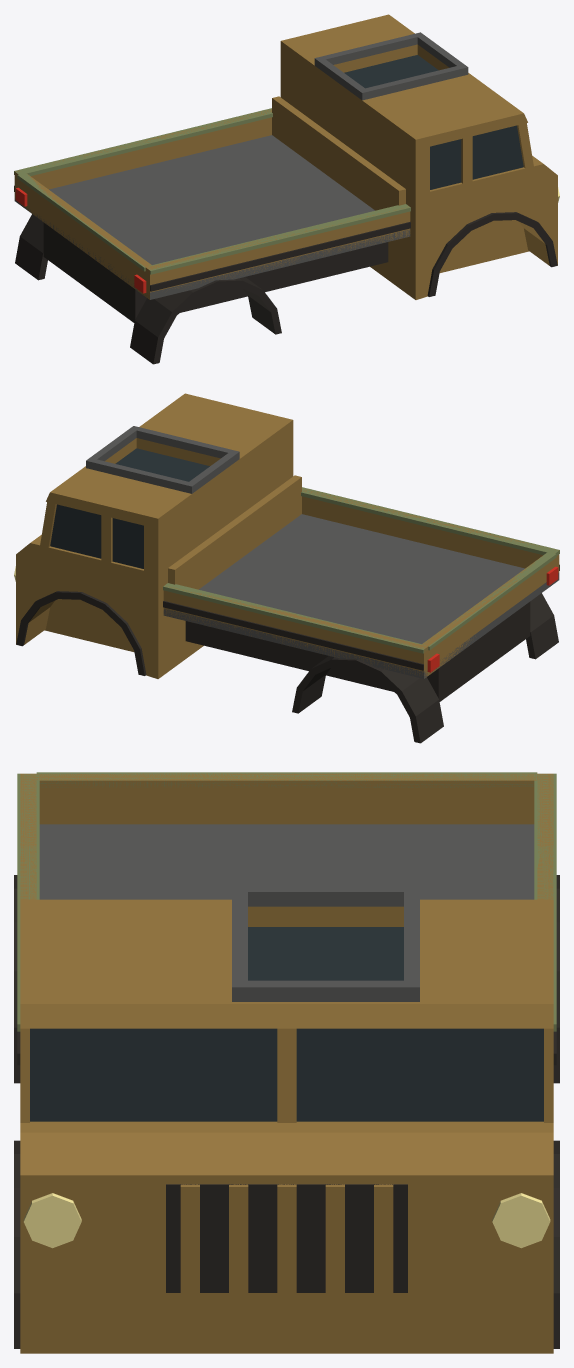
Rendered from base_hauler.glb.
The picture shows the model from 3 angles, top to bottom: view 1: azimuth 30°, elevation 25°; view 2: azimuth 150°, elevation 25°; view 3: azimuth 270°, elevation 25°; orthographic projection. The views are drawn at different scales.
Parts seen in each view (by area): view 1: base_hauler; view 2: base_hauler; view 3: base_hauler.
Part boxes in pixels (x1,y1,x2,y2): base_hauler: (14,14,559,364); base_hauler: (14,393,559,743); base_hauler: (14,772,559,1353).
Size of the model in its own units: 5.85 by 2.27 by 3.39.
